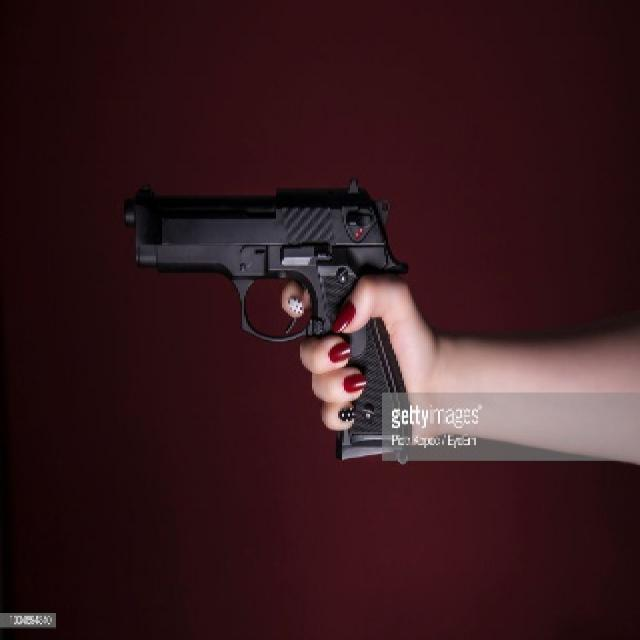weapon: (120, 176, 440, 465)
